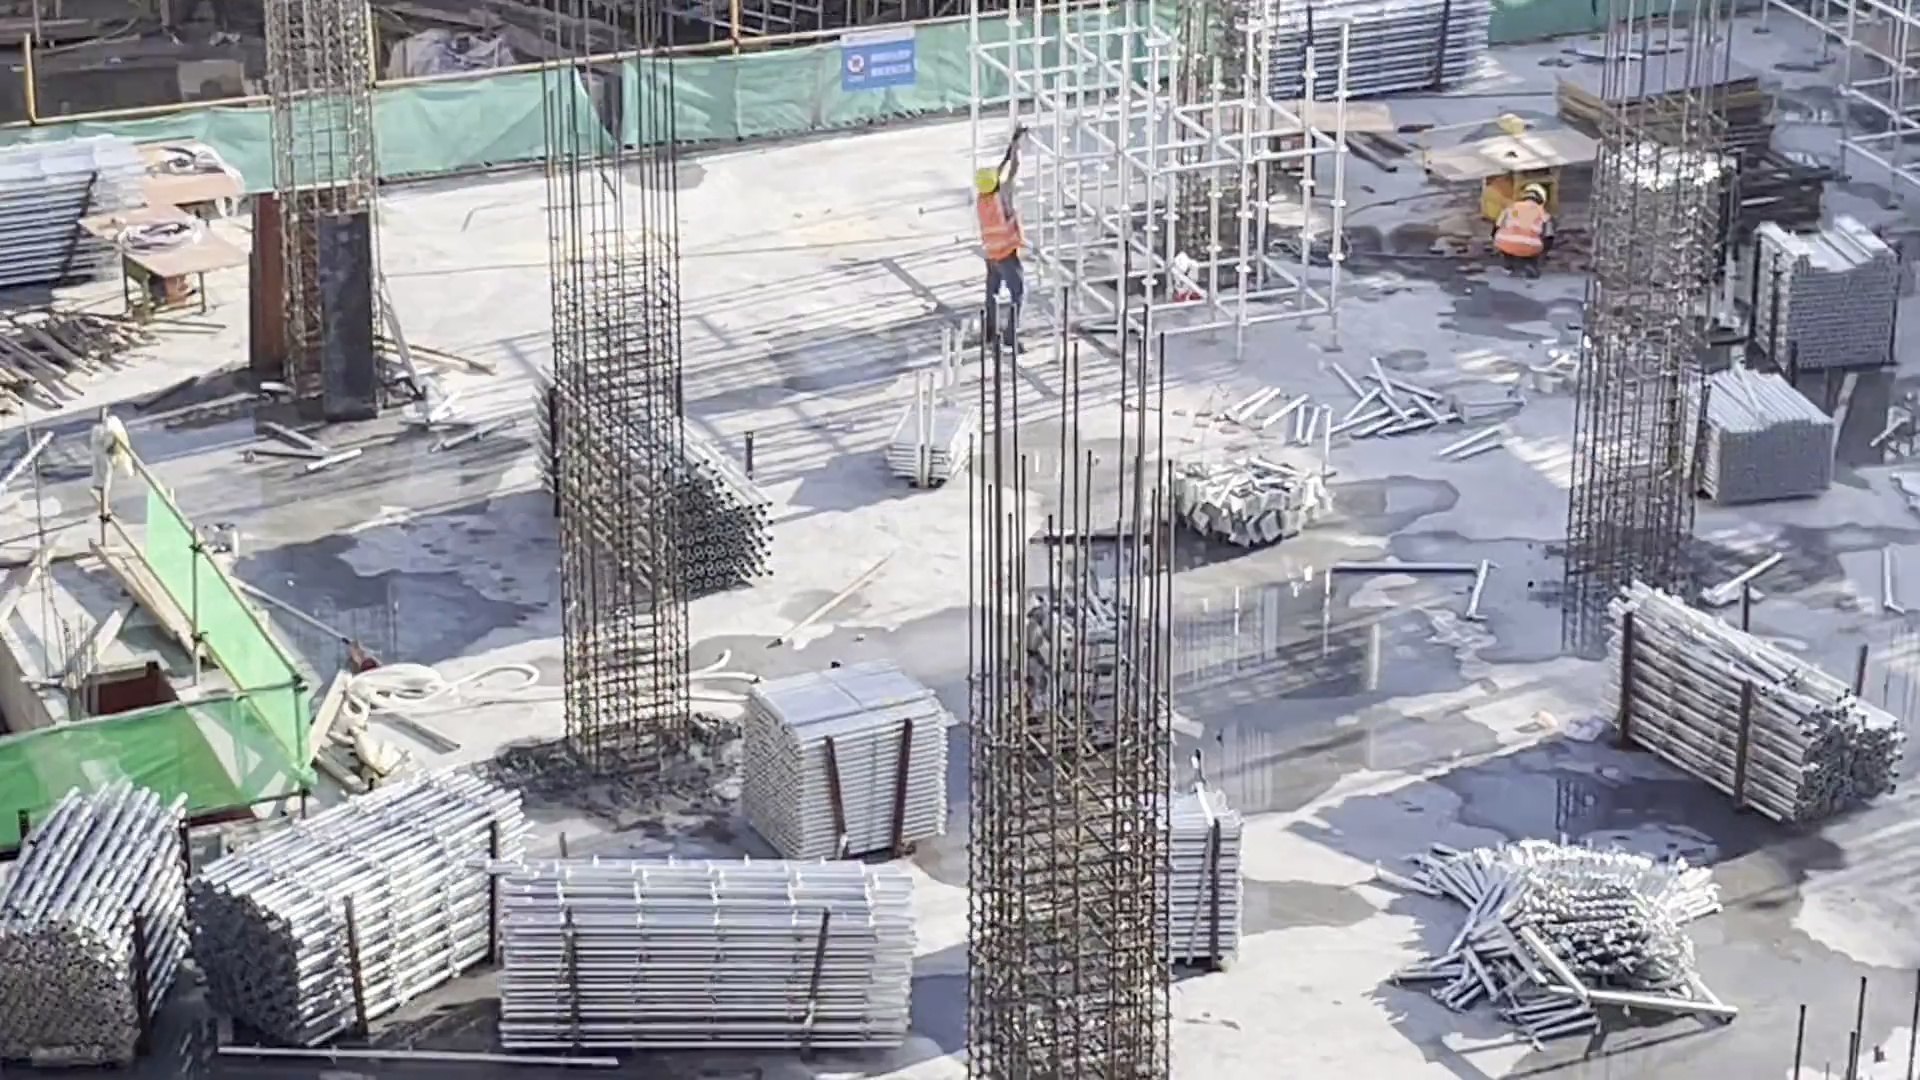cutter: (97, 200, 230, 332), (1245, 103, 1402, 200), (1438, 136, 1593, 232), (138, 138, 237, 199)
helmet: (969, 158, 1007, 199), (1523, 176, 1548, 199)
person: (964, 123, 1033, 361), (1487, 170, 1554, 281)
scaffold: (492, 876, 884, 1060), (224, 790, 513, 1025), (1447, 829, 1717, 1036), (1621, 599, 1857, 823), (1, 795, 192, 1067), (559, 391, 733, 608), (788, 681, 963, 865), (1212, 1, 1489, 92), (1780, 248, 1900, 401), (1, 152, 147, 277), (1696, 376, 1833, 508), (1119, 820, 1241, 969), (893, 399, 980, 492)
slogan: (841, 40, 913, 85)
vest: (971, 202, 1023, 260), (1490, 207, 1546, 257)
